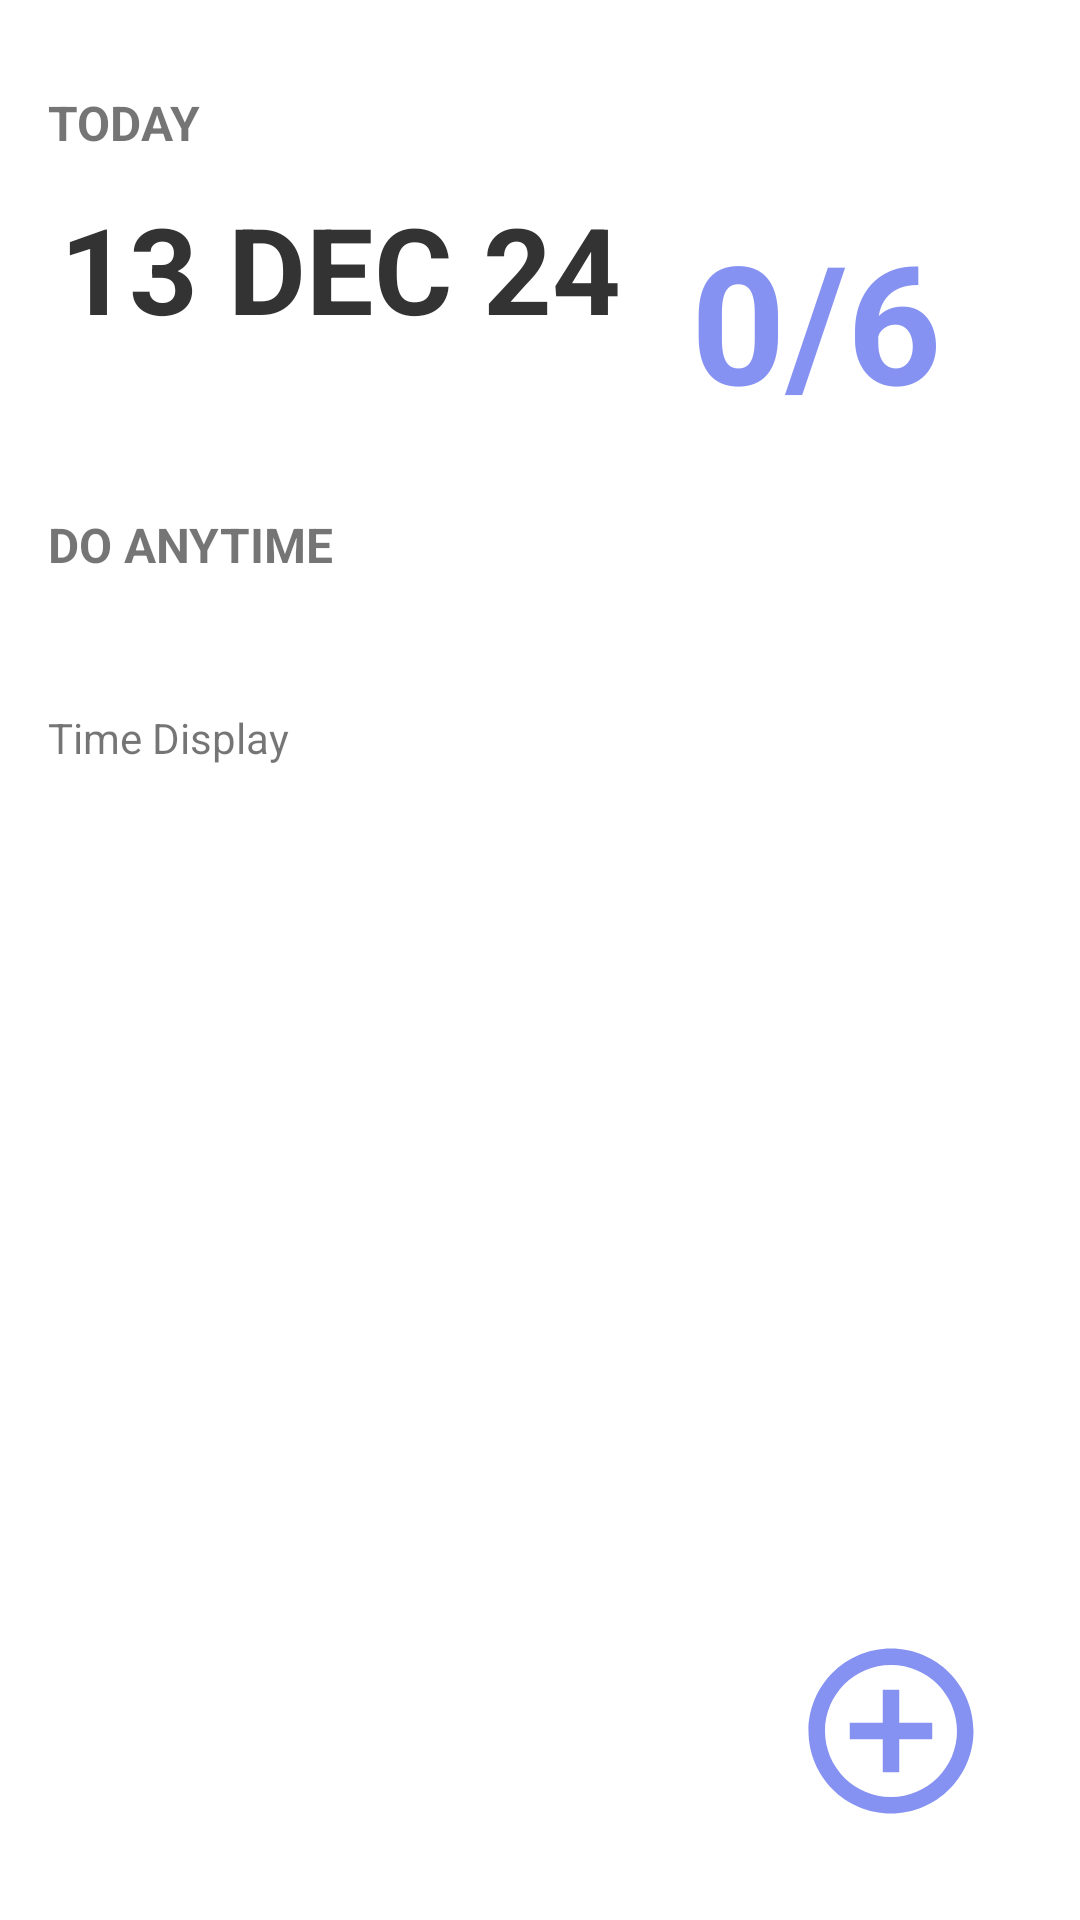

Where to tap for icons on this 1080w x 1920h app screen, as [x,y]:
Add Time Button: [891,1731]
